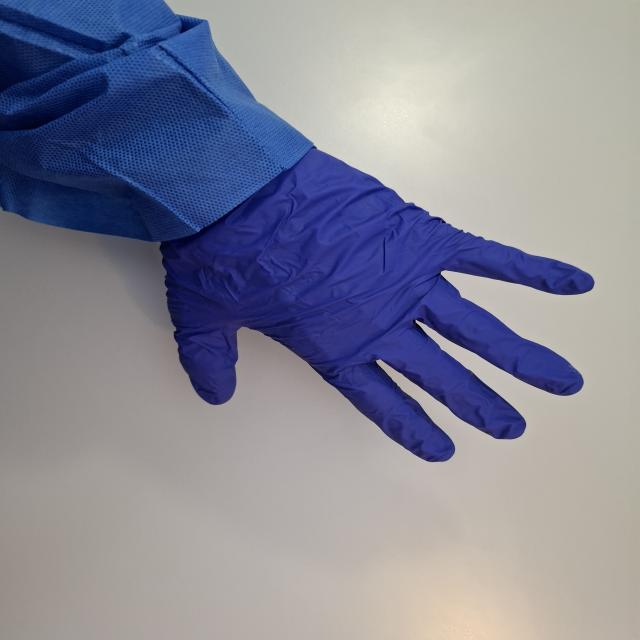glove_on: (154, 137, 598, 464)
